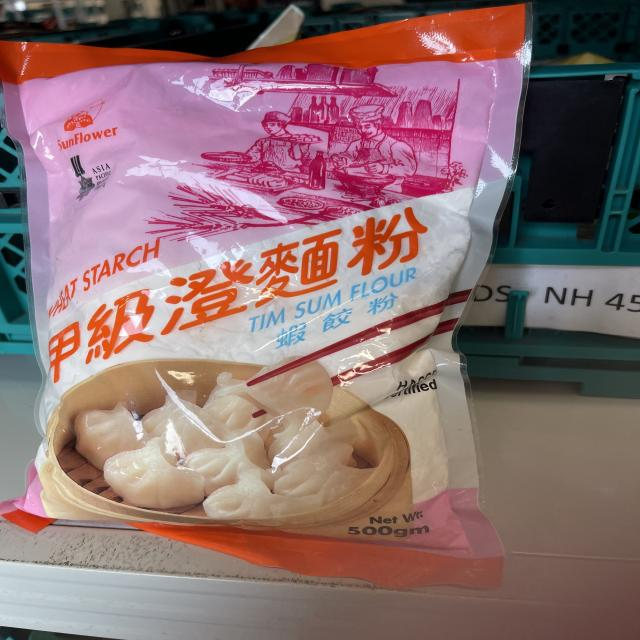object_name: (6, 39, 468, 556)
